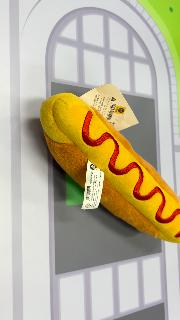hotdog: (40, 92, 180, 244)
